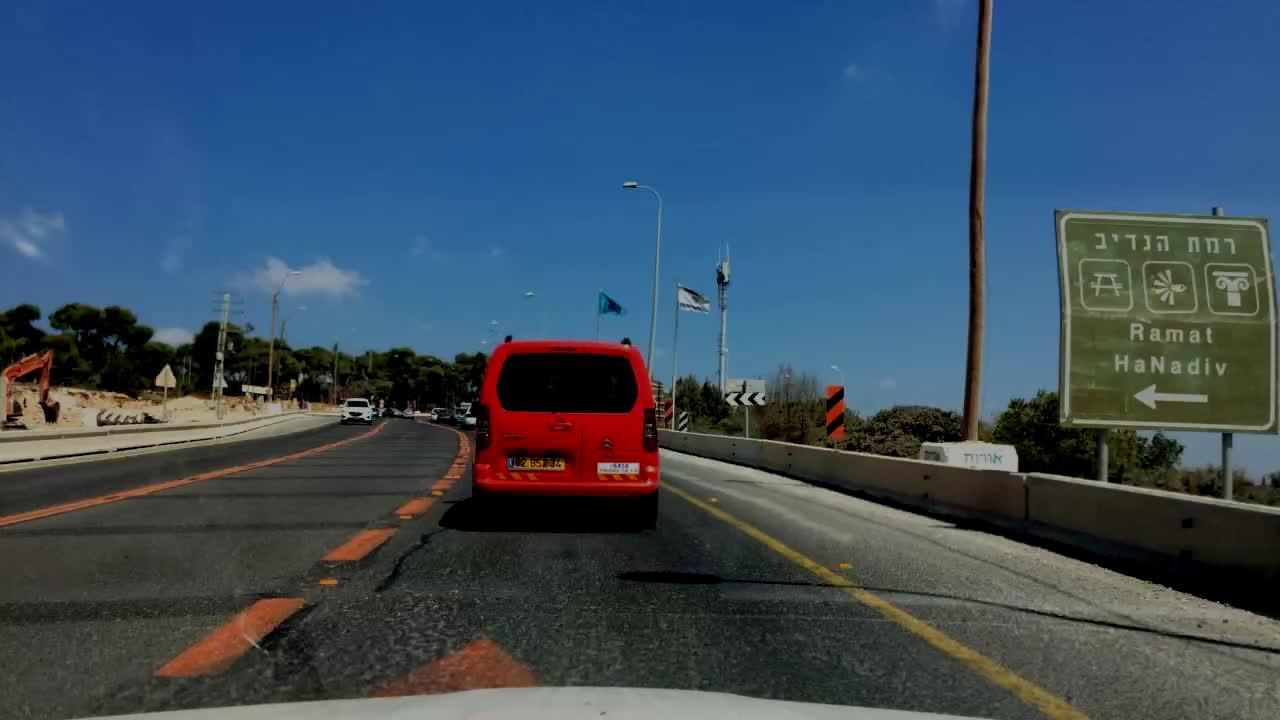Citroen: (598, 436, 615, 453)
